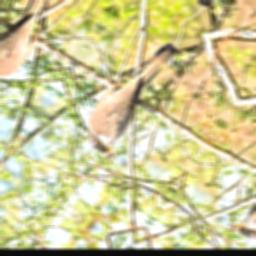Cuckoo: (72, 31, 191, 161)
